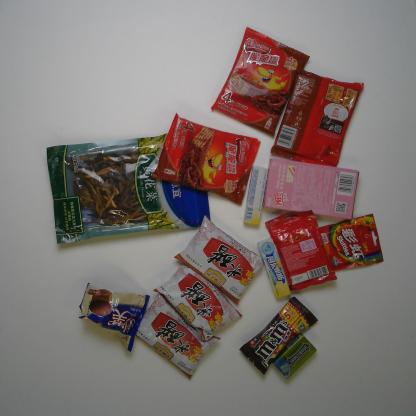Candy: (262, 207, 339, 291), (317, 211, 386, 273), (254, 236, 293, 300), (242, 162, 270, 227)
Chocolate: (236, 295, 320, 376)
Dessert: (209, 24, 312, 139), (146, 110, 262, 208), (268, 65, 366, 169), (262, 151, 361, 222), (74, 280, 152, 356)
Dried Food: (44, 130, 213, 245)
Gum: (269, 331, 318, 382)
Seasoner: (172, 214, 264, 306), (133, 291, 224, 382), (149, 261, 245, 343)
